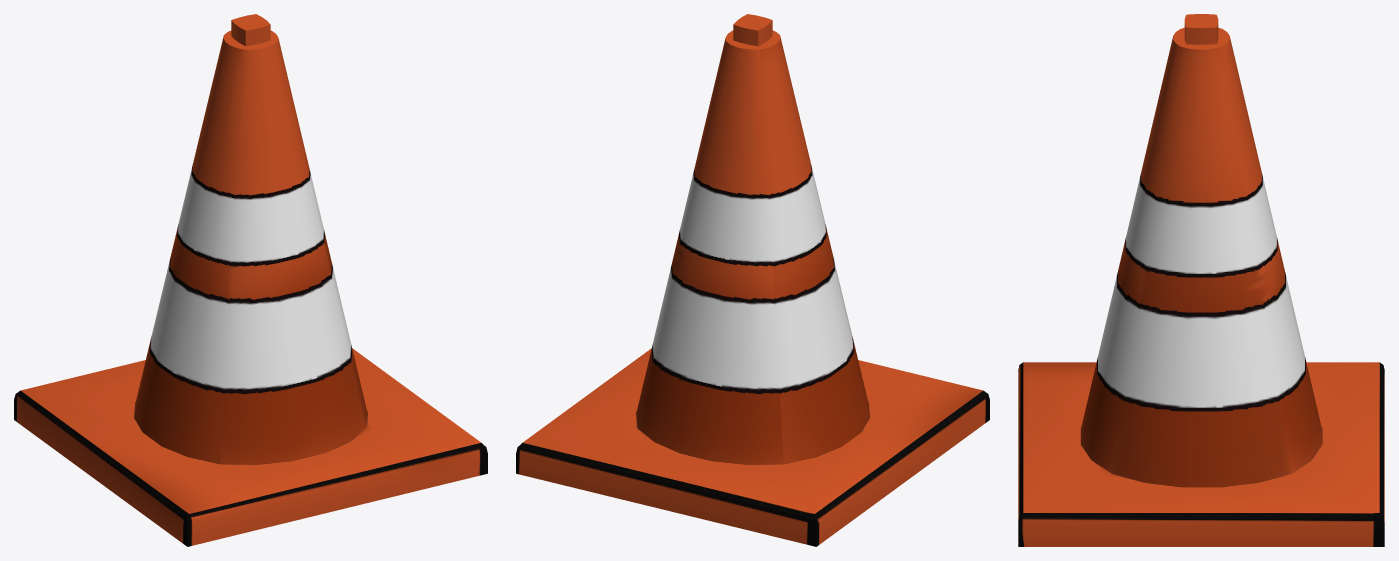
The picture shows the model from 3 angles, left to right: view 1: azimuth 30°, elevation 25°; view 2: azimuth 150°, elevation 25°; view 3: azimuth 270°, elevation 25°; orthographic projection. The views are drawn at different scales.
Visible parts, largest first — view 1: Cone; view 2: Cone; view 3: Cone.
Part boxes in pixels (box(x1,y1,x2,y2)): Cone: box(14, 14, 487, 546); Cone: box(516, 14, 989, 546); Cone: box(1018, 14, 1384, 546).
Bounding box in the file's own units: 200 × 270 × 200.
1 material, 1 textured.
